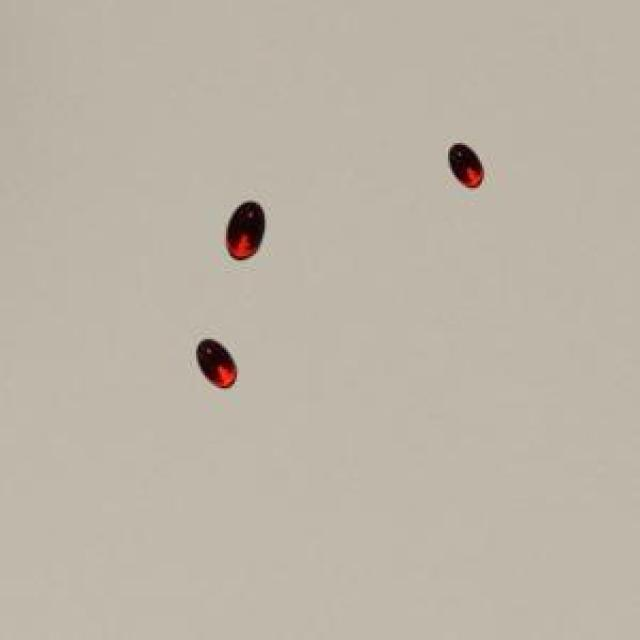Medicol: (437, 128, 502, 200), (215, 189, 271, 271), (193, 324, 243, 399)
